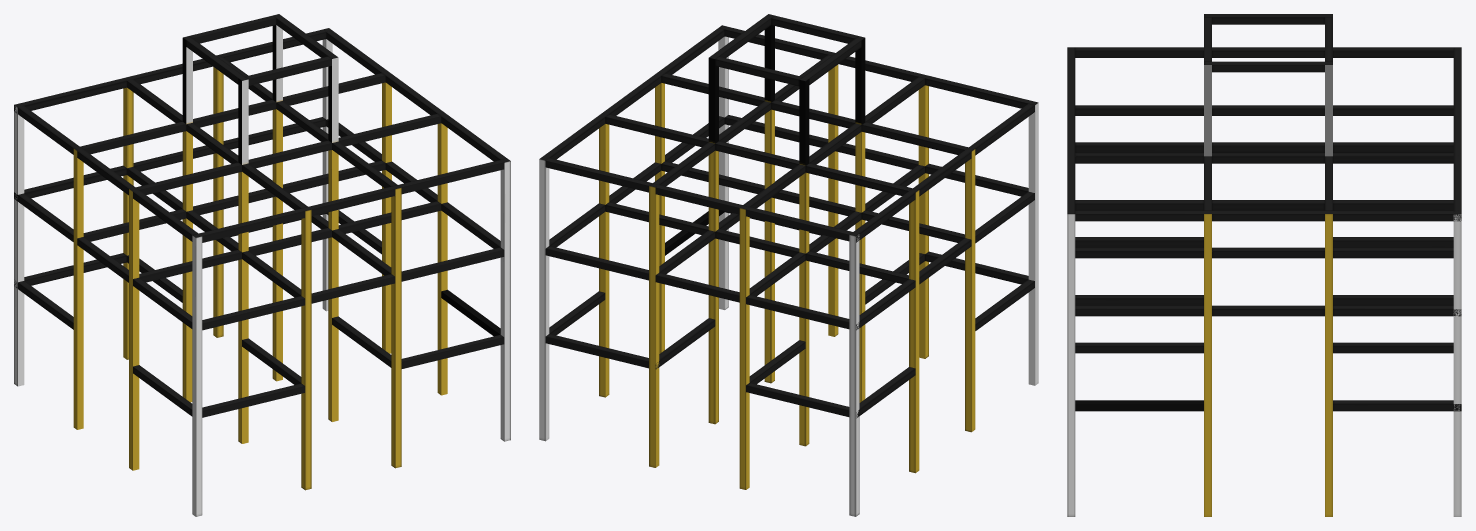
File: klimrek.fbx
3 renders of one model, left to right at view 1: azimuth 30°, elevation 25°; view 2: azimuth 150°, elevation 25°; view 3: azimuth 270°, elevation 25°, orthographic. The views are drawn at different scales.
Visible parts, largest first — view 1: klimrek; view 2: klimrek; view 3: klimrek.
Part boxes in pixels (x1,y1,x2,y2): klimrek: (14,14,510,516); klimrek: (539,14,1038,516); klimrek: (1067,14,1461,516).
Bounding box in the file's own units: 202 × 223 × 202.
Materials: 1 (1 with a texture image).
